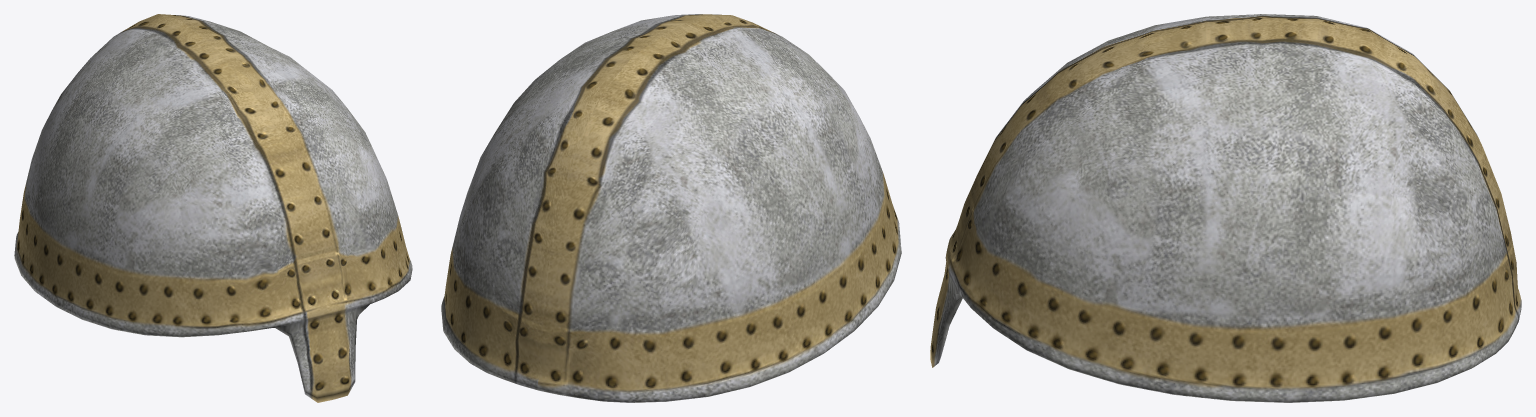
File: Helmet_02.fbx
3 views of the same model, side by side, from view 1: azimuth 30°, elevation 25°; view 2: azimuth 150°, elevation 25°; view 3: azimuth 270°, elevation 25° (orthographic). The views are drawn at different scales.
Visible parts, largest first — view 1: ZBrush_defualt_group; view 2: ZBrush_defualt_group; view 3: ZBrush_defualt_group.
Boxes of the visible parts, x1,y1,x2,y2 form: ZBrush_defualt_group: (14,14,412,402); ZBrush_defualt_group: (441,14,901,402); ZBrush_defualt_group: (930,14,1521,402).
Size of the model in its own units: 17.63 by 14.25 by 22.71.
